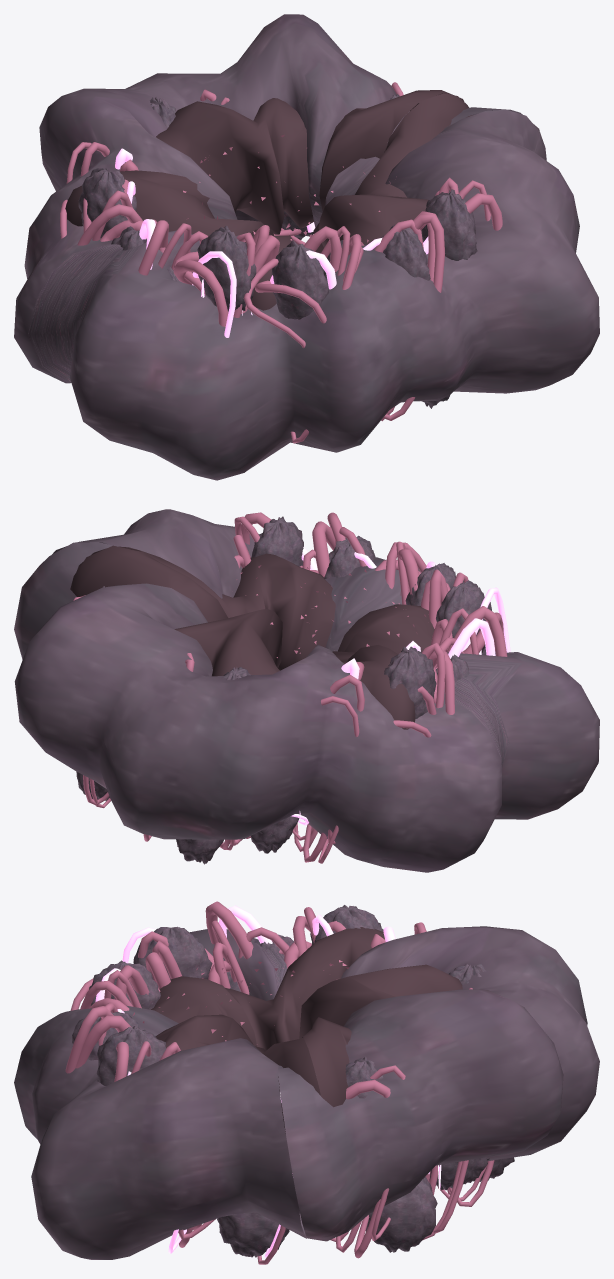
File: Rubber.glb
3 renders of one model, top to bottom at view 1: azimuth 30°, elevation 25°; view 2: azimuth 150°, elevation 25°; view 3: azimuth 270°, elevation 25°, orthographic.
Parts seen in each view (by area): view 1: Rubber_Collapsed_SiliconeMembrane, Rubber_InnerCrease, Rubber_MembraneBlister_21, Rubber_MembraneBlister_19, Rubber_MembraneBlister_26, Rubber_MembraneBlister_14, Rubber_MembraneBlister_24, Rubber_TornPolymerFilament_47, Rubber_TornPolymerFilament_62, Rubber_TornPolymerFilament_53, Rubber_TornPolymerFilament_52, Rubber_TornPolymerFilament_38 (+4 smaller); view 2: Rubber_Collapsed_SiliconeMembrane, Rubber_InnerCrease, Rubber_MembraneBlister_14, Rubber_MembraneBlister_26, Rubber_MembraneBlister_19, Rubber_MembraneBlister_24, Rubber_MembraneBlister_10, Rubber_TornPolymerFilament_43, Rubber_MembraneBlister_08, Rubber_TornPolymerFilament_63, Rubber_TornPolymerFilament_42, Rubber_MembraneBlister_21 (+8 smaller); view 3: Rubber_Collapsed_SiliconeMembrane, Rubber_InnerCrease, Rubber_MembraneBlister_03, Rubber_MembraneBlister_30, Rubber_MembraneBlister_26, Rubber_MembraneBlister_19, Rubber_TornPolymerFilament_03, Rubber_TornPolymerFilament_43, Rubber_MembraneBlister_14, Rubber_MembraneBlister_21, Rubber_TornPolymerFilament_63, Rubber_MembraneBlister_05 (+12 smaller).
Part boxes in pixels (x1=…): Rubber_Collapsed_SiliconeMembrane: x1=14, y1=14, x2=599, y2=480; Rubber_InnerCrease: x1=65, y1=90, x2=472, y2=310; Rubber_MembraneBlister_21: x1=271, y1=240, x2=328, y2=319; Rubber_MembraneBlister_19: x1=197, y1=225, x2=256, y2=311; Rubber_MembraneBlister_26: x1=421, y1=189, x2=477, y2=260; Rubber_MembraneBlister_14: x1=78, y1=168, x2=136, y2=238; Rubber_MembraneBlister_24: x1=381, y1=224, x2=430, y2=280; Rubber_TornPolymerFilament_47: x1=173, y1=259, x2=228, y2=326; Rubber_TornPolymerFilament_62: x1=413, y1=214, x2=445, y2=292; Rubber_TornPolymerFilament_53: x1=255, y1=280, x2=326, y2=443; Rubber_TornPolymerFilament_52: x1=243, y1=258, x2=305, y2=348; Rubber_TornPolymerFilament_38: x1=77, y1=204, x2=142, y2=245; Rubber_Collapsed_SiliconeMembrane: x1=14, y1=509, x2=599, y2=872; Rubber_InnerCrease: x1=70, y1=545, x2=434, y2=729; Rubber_MembraneBlister_14: x1=384, y1=646, x2=436, y2=718; Rubber_MembraneBlister_26: x1=251, y1=516, x2=303, y2=566; Rubber_MembraneBlister_19: x1=436, y1=580, x2=491, y2=652; Rubber_MembraneBlister_24: x1=324, y1=535, x2=375, y2=578; Rubber_MembraneBlister_10: x1=250, y1=816, x2=299, y2=853; Rubber_TornPolymerFilament_43: x1=447, y1=606, x2=507, y2=656; Rubber_MembraneBlister_08: x1=176, y1=839, x2=223, y2=864; Rubber_TornPolymerFilament_63: x1=312, y1=521, x2=335, y2=577; Rubber_TornPolymerFilament_42: x1=448, y1=618, x2=495, y2=658; Rubber_MembraneBlister_21: x1=405, y1=563, x2=455, y2=605; Rubber_Collapsed_SiliconeMembrane: x1=14, y1=926, x2=599, y2=1259; Rubber_InnerCrease: x1=151, y1=927, x2=462, y2=1133; Rubber_MembraneBlister_03: x1=365, y1=1177, x2=437, y2=1252; Rubber_MembraneBlister_30: x1=217, y1=1212, x2=289, y2=1257; Rubber_MembraneBlister_26: x1=96, y1=1026, x2=166, y2=1085; Rubber_MembraneBlister_19: x1=133, y1=926, x2=212, y2=979; Rubber_TornPolymerFilament_03: x1=346, y1=1079, x2=390, y2=1258; Rubber_TornPolymerFilament_43: x1=205, y1=901, x2=253, y2=959; Rubber_MembraneBlister_14: x1=310, y1=905, x2=383, y2=944; Rubber_MembraneBlister_21: x1=89, y1=960, x2=160, y2=1009; Rubber_TornPolymerFilament_63: x1=75, y1=1015, x2=131, y2=1068; Rubber_MembraneBlister_05: x1=429, y1=1157, x2=487, y2=1190.
Bounding box in the file's own units: 0.4624 × 0.2316 × 0.4412.
Materials: 5 (2 with a texture image).
